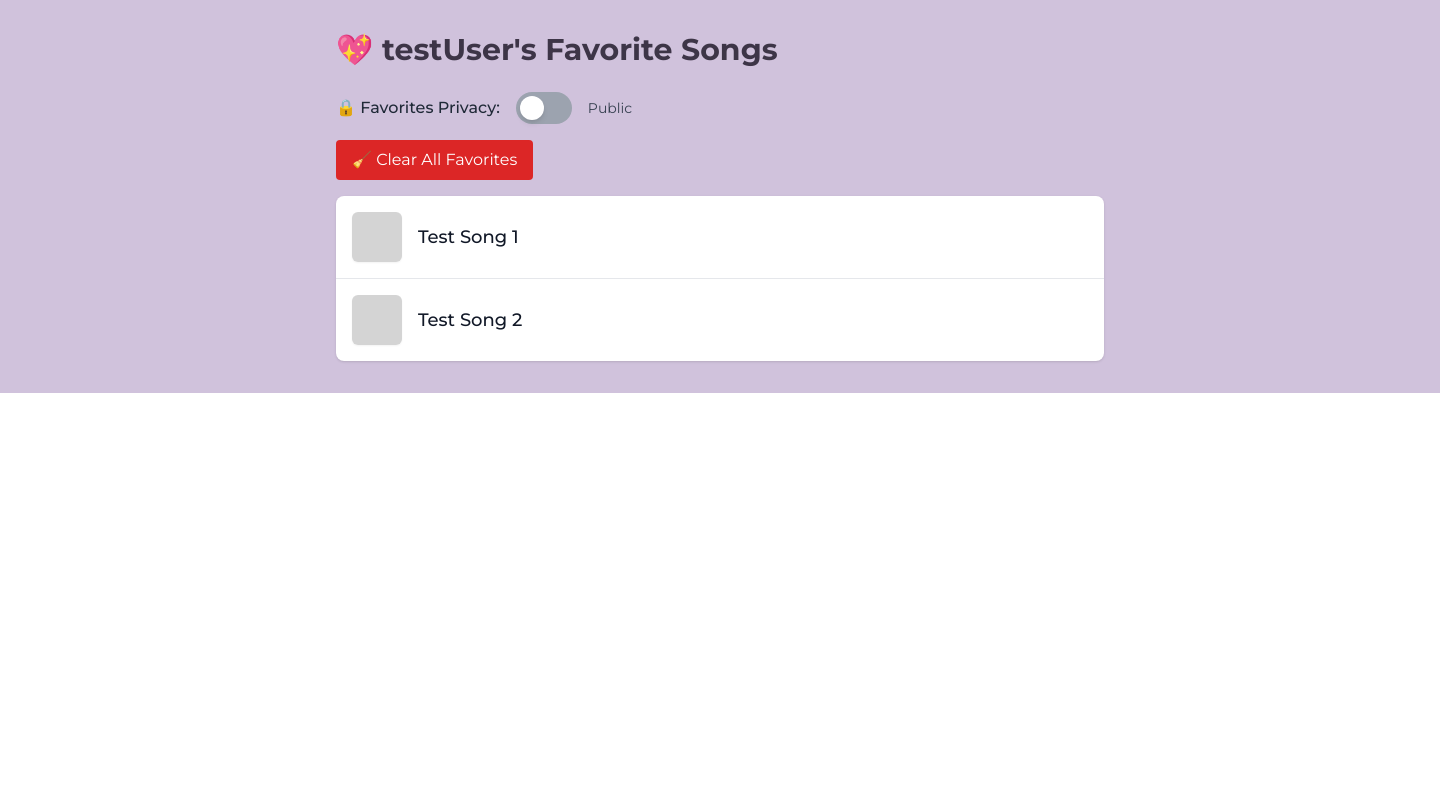
Favorites Component › cancels removal when clicking cancel button
Check: the text "Test Song 1" is shown, box left=418, top=226, right=519, bottom=248
// Hover over song to show buttons
Hover over the button "Test Song 1" at [377, 237], box left=336, top=196, right=1104, bottom=279
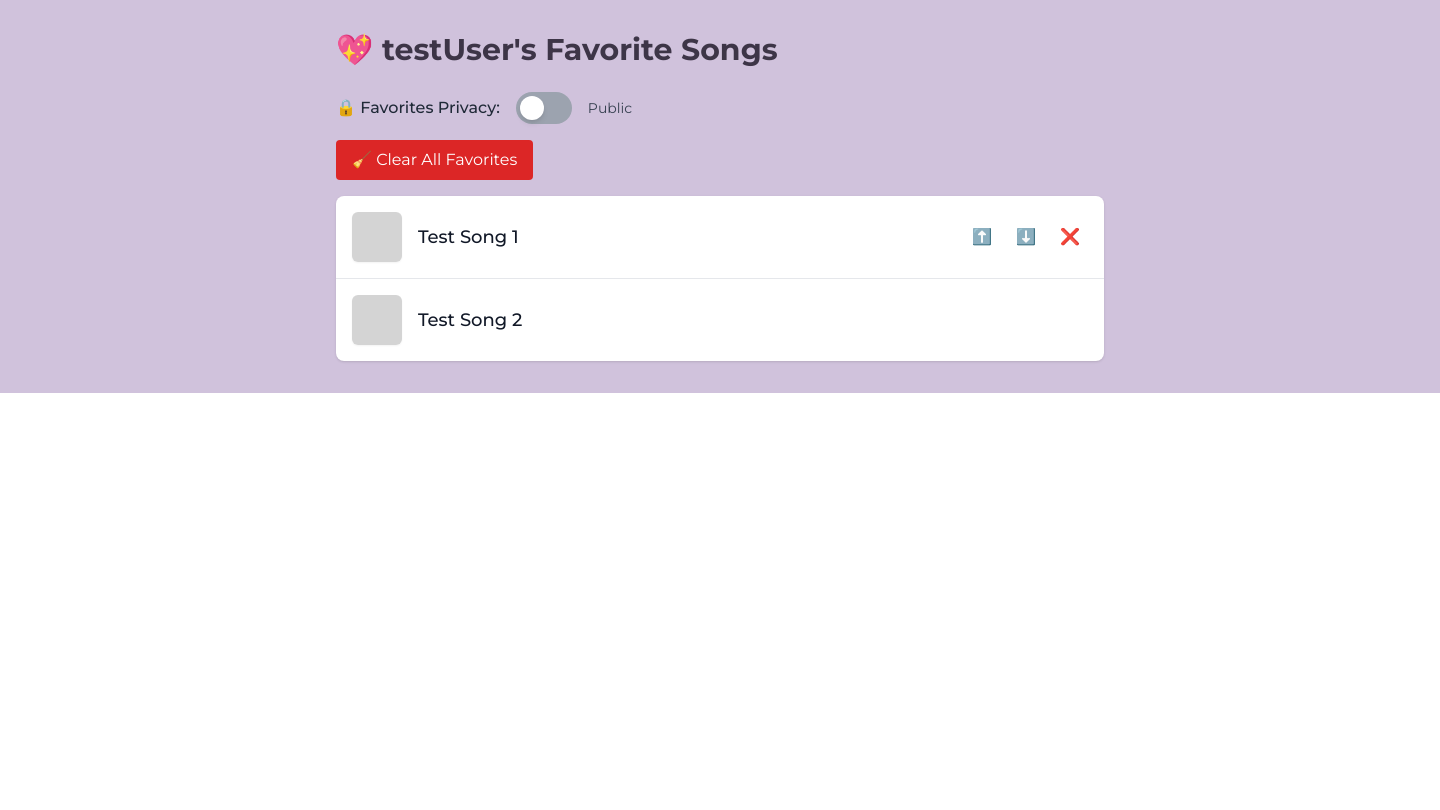
// Click remove button
Click the button named "Remove" at [1070, 237], box left=1052, top=221, right=1088, bottom=253
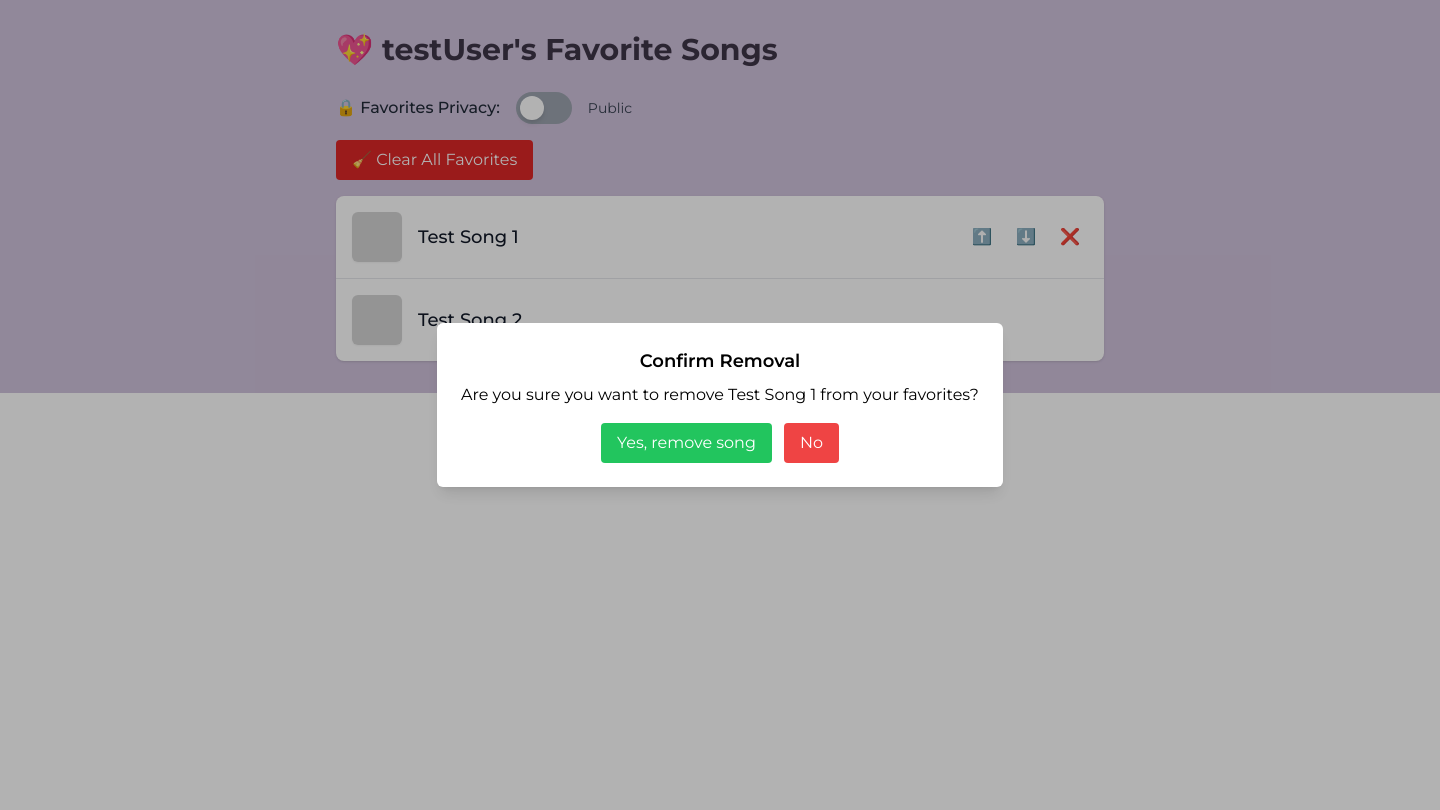
// Click cancel button
Click the button "No" at [811, 443], box left=784, top=423, right=839, bottom=463
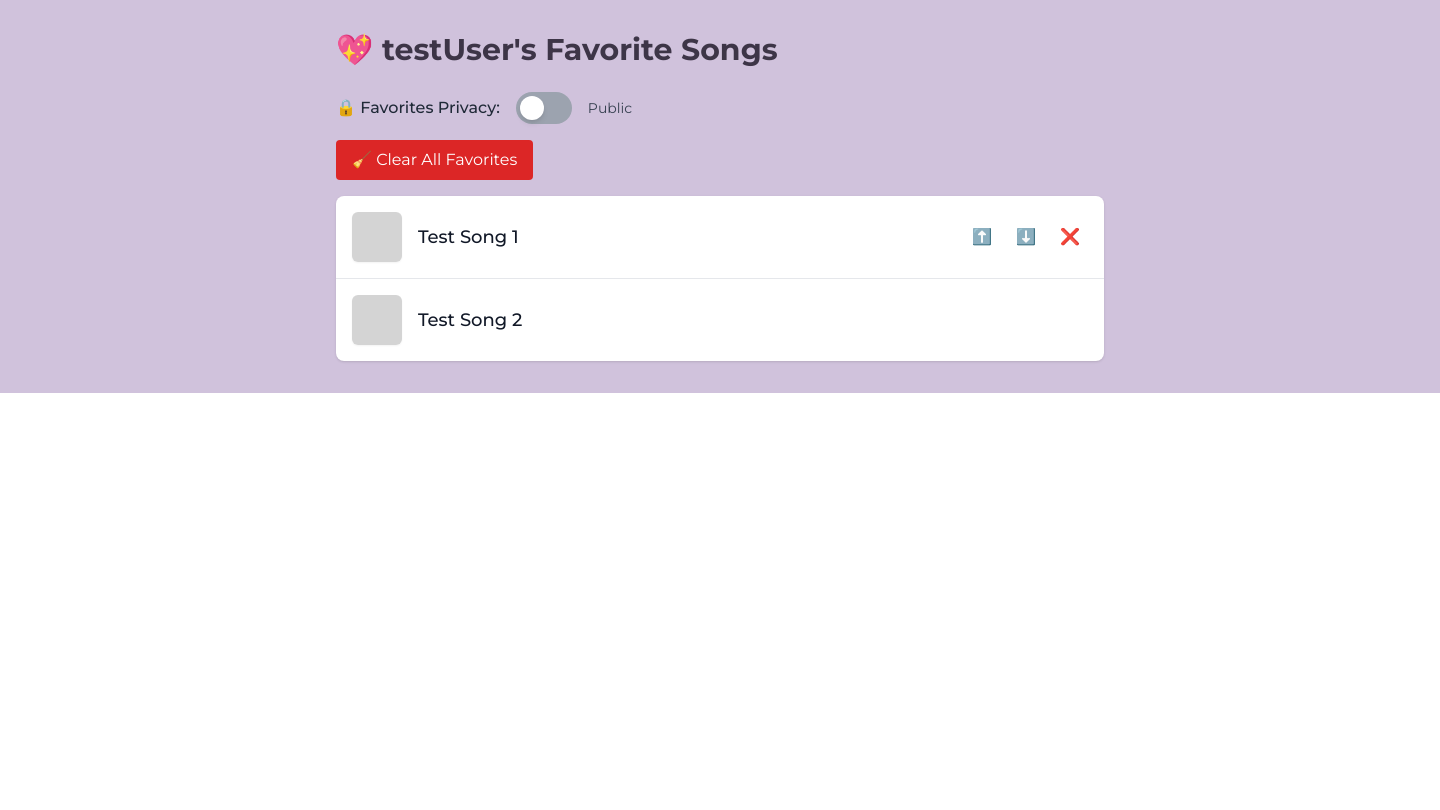
Check: the heading "Confirm Removal" is gone
